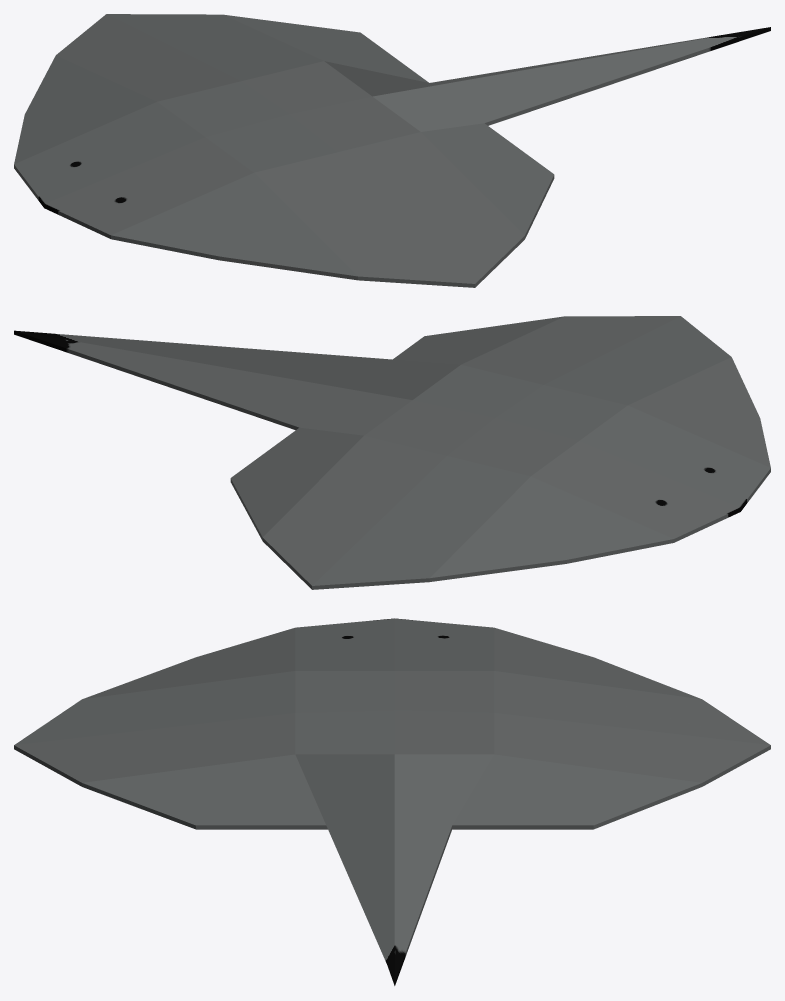
The model's file is arraia.fbx.
The picture shows the model from 3 angles, top to bottom: view 1: azimuth 30°, elevation 25°; view 2: azimuth 150°, elevation 25°; view 3: azimuth 270°, elevation 25°; orthographic projection. The views are drawn at different scales.
Parts seen in each view (by area): view 1: Plane; view 2: Plane; view 3: Plane.
Boxes of the visible parts, x1=… form: Plane: x1=14, y1=14, x2=770, y2=287; Plane: x1=14, y1=316, x2=770, y2=589; Plane: x1=14, y1=618, x2=770, y2=985.
Bounding box in the file's own units: 956 × 47.63 × 841.
Materials: 1 (1 with a texture image).
